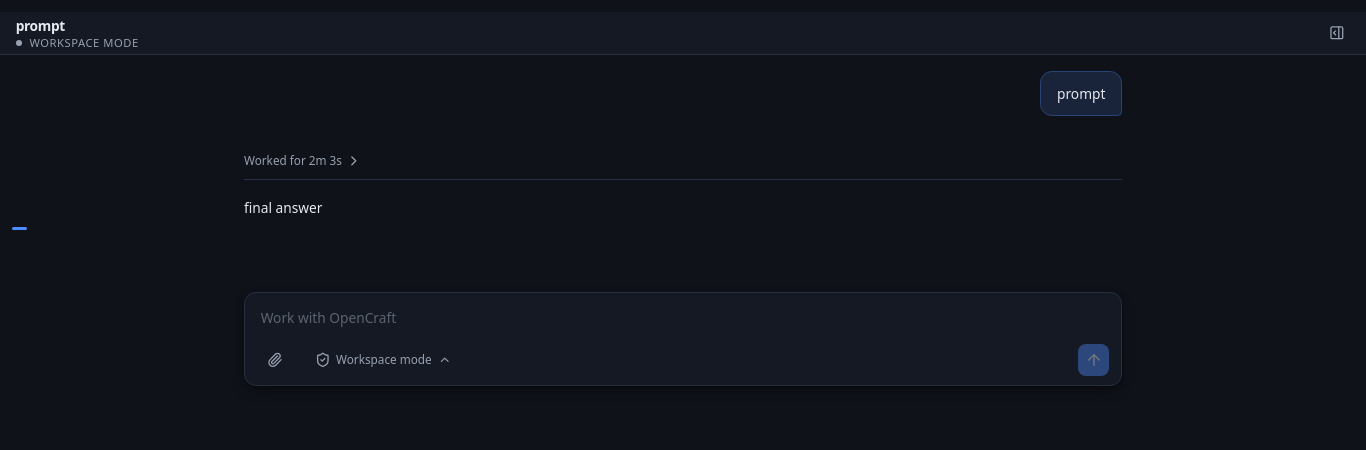
Test case: ChatView transcript windowing › folds an ended turn to the final assistant output
The width and height of the screenshot is (1366, 450).
Expected: the text "middle step" is not shown
Click the button "Worked for 2m 3s" at (303, 161), box [244,151,362,171]
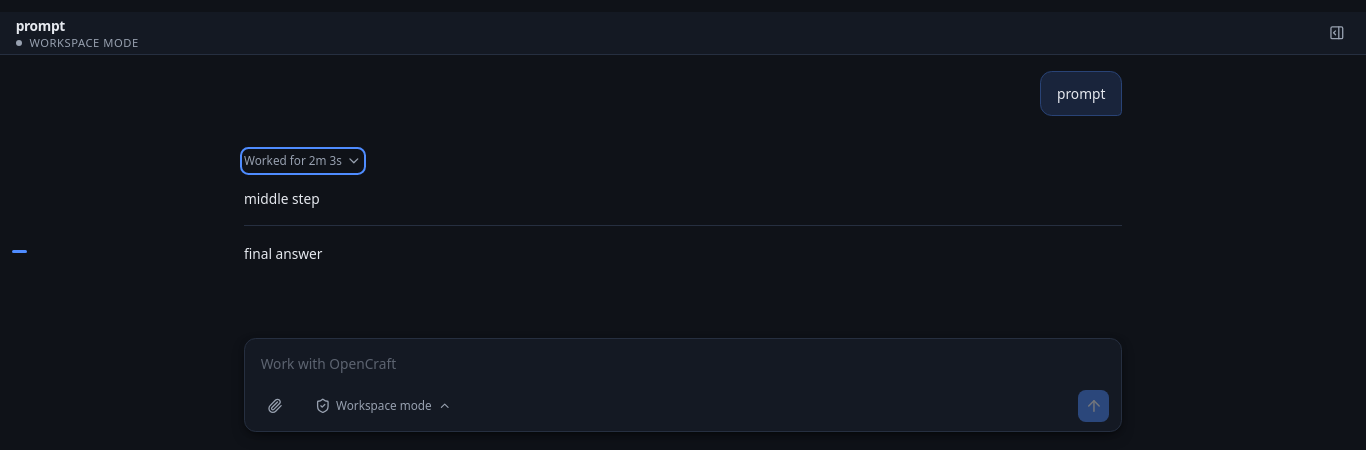
Expected: the text "final answer" is shown, [244,244,322,263]
Now the text "middle step" is shown, box [244,189,320,208]
